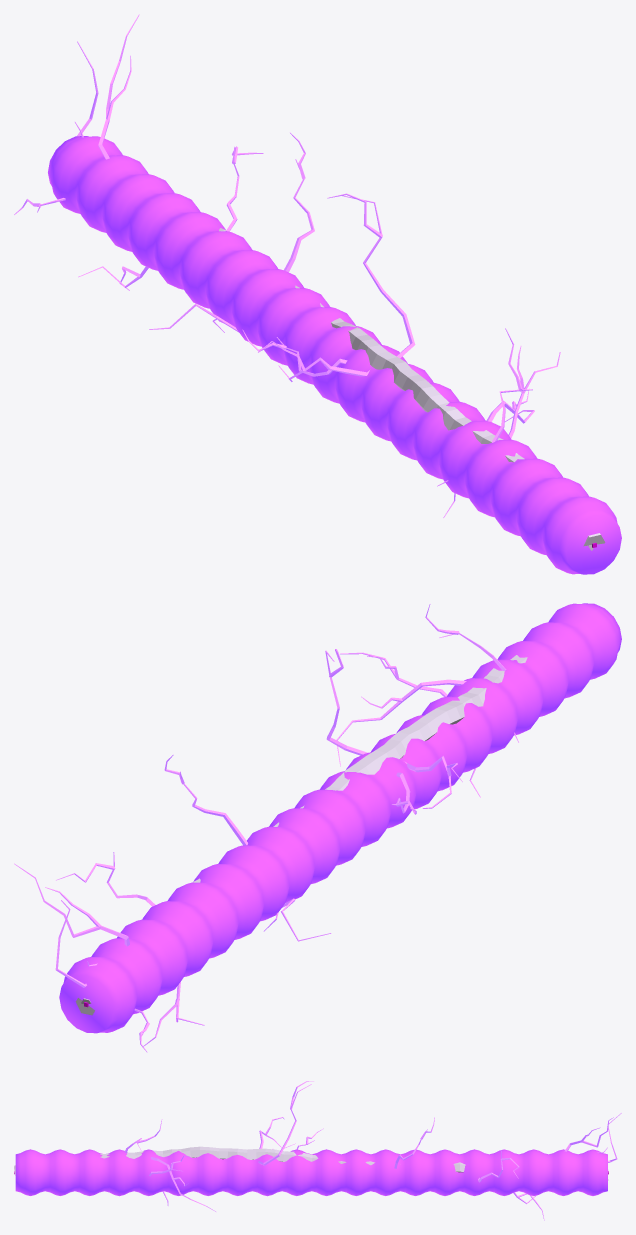
Rendered from ElectricBeam.fbx.
The picture shows the model from 3 angles, top to bottom: view 1: azimuth 30°, elevation 25°; view 2: azimuth 150°, elevation 25°; view 3: azimuth 270°, elevation 25°; orthographic projection. The views are drawn at different scales.
Visible parts, largest first — view 1: Sheath, Branches, Bolt; view 2: Sheath, Branches, Bolt; view 3: Sheath, Branches, Bolt.
Part boxes in pixels (bbox=[...]): Sheath: bbox=[48, 136, 621, 574]; Branches: bbox=[14, 14, 560, 517]; Bolt: bbox=[219, 228, 605, 550]; Sheath: bbox=[59, 603, 621, 1033]; Branches: bbox=[14, 604, 518, 1052]; Bolt: bbox=[75, 655, 527, 1015]; Sheath: bbox=[15, 1149, 607, 1196]; Branches: bbox=[124, 1081, 621, 1220]; Bolt: bbox=[14, 1146, 608, 1175].
Size of the model in its own units: 5.73 by 6.33 by 24.64.
